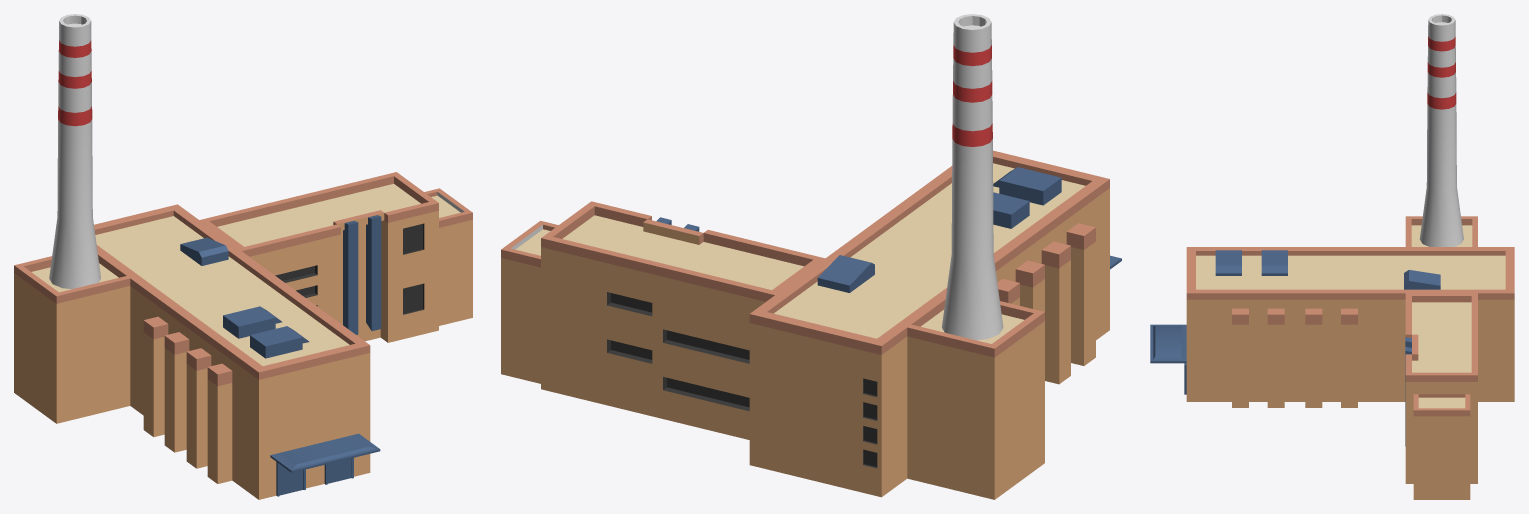
File: infrastructure-building-power-plant.fbx
3 views of the same model, side by side, from view 1: azimuth 30°, elevation 25°; view 2: azimuth 150°, elevation 25°; view 3: azimuth 270°, elevation 25° (orthographic). The views are drawn at different scales.
Parts seen in each view (by area): view 1: infrastructure-building-power-plant; view 2: infrastructure-building-power-plant; view 3: infrastructure-building-power-plant.
Part boxes in pixels (x1,y1,x2,y2): infrastructure-building-power-plant: (14, 14, 472, 499); infrastructure-building-power-plant: (501, 14, 1121, 499); infrastructure-building-power-plant: (1150, 14, 1514, 499).
Bounding box in the file's own units: 31.9 × 27.36 × 28.09.
